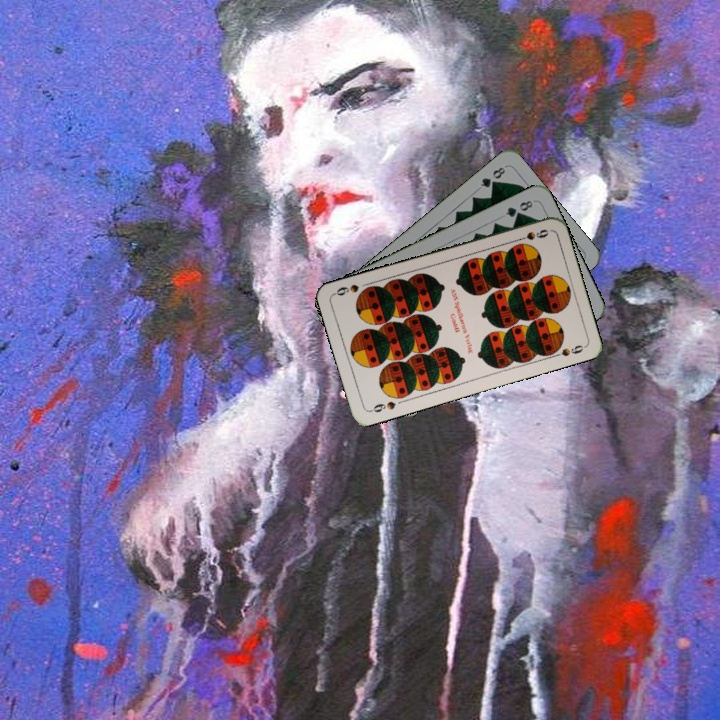G8: (476, 163, 508, 190), (501, 196, 535, 220)
S9: (511, 225, 551, 244), (366, 397, 398, 415)
